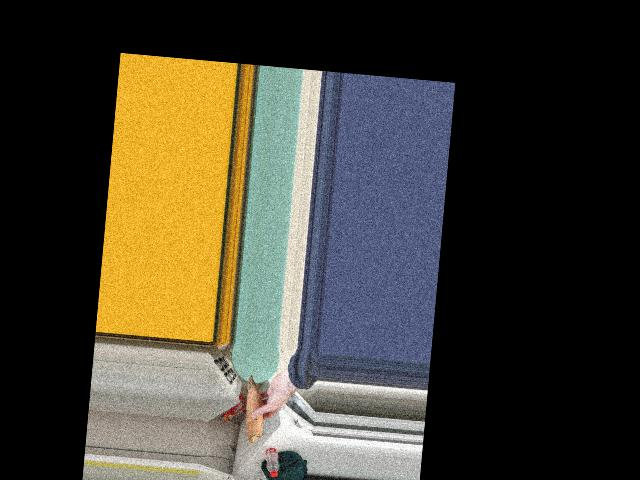sweet_potato: (243, 377, 268, 442)
